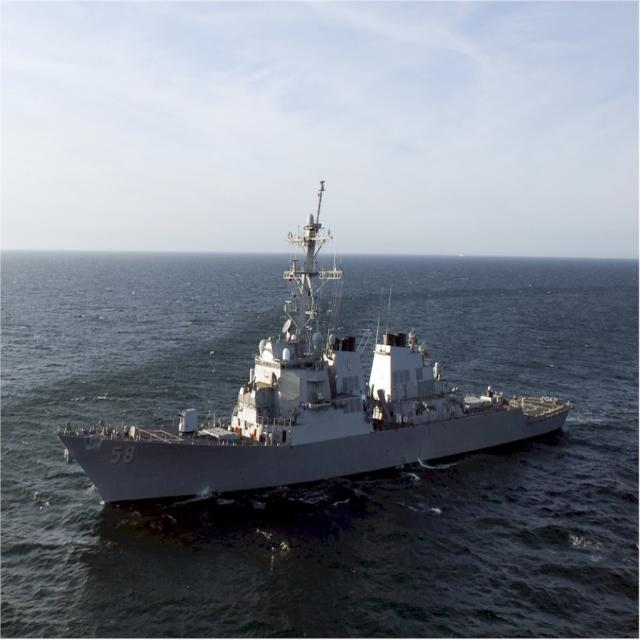navalvessels: (48, 168, 564, 523)
